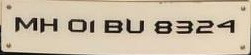character: (13, 15, 38, 32), (38, 17, 58, 33), (103, 18, 123, 34), (125, 17, 145, 33), (153, 19, 172, 35), (174, 19, 193, 35), (195, 18, 214, 34), (67, 17, 87, 32), (217, 18, 235, 34), (88, 18, 95, 35)
